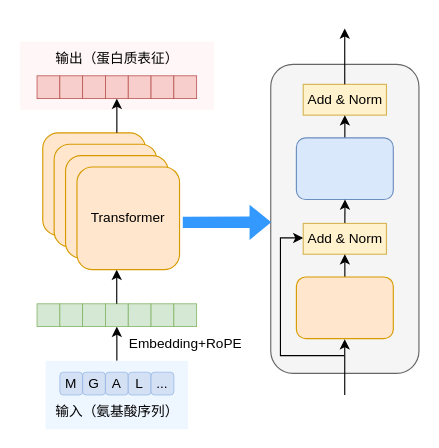
Some shapes in this 439 by 448 pixel diagram are drawn without their labels. Each missing label, with the centre of its shape:
Feed Forward: pixel 344 168
Multi-Head Attention: pixel 344 307
